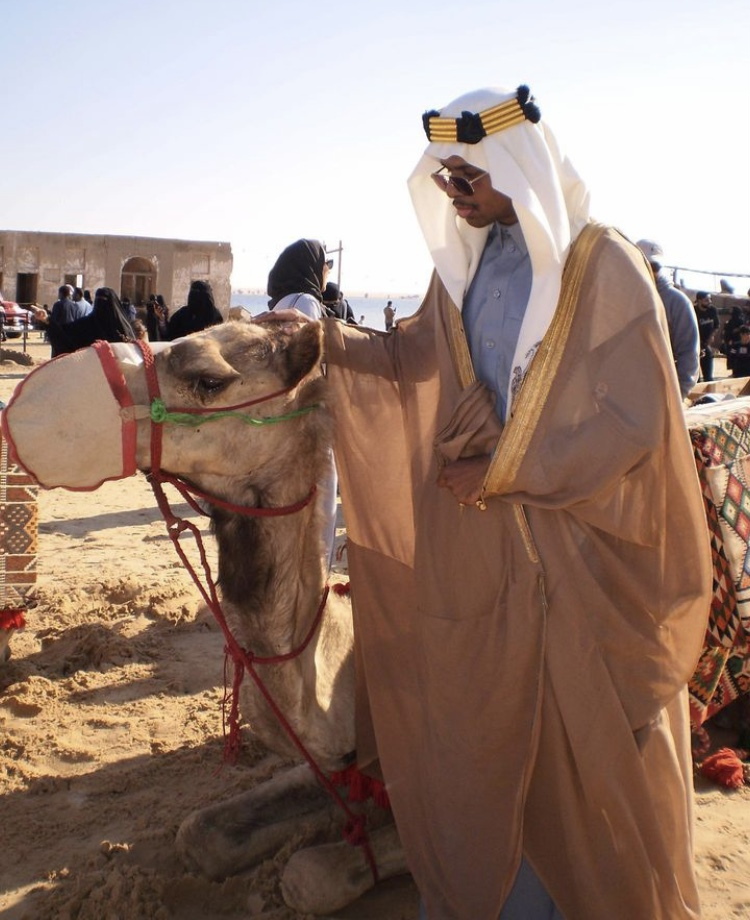Saudi_Founding_Day: (326, 82, 716, 920)
